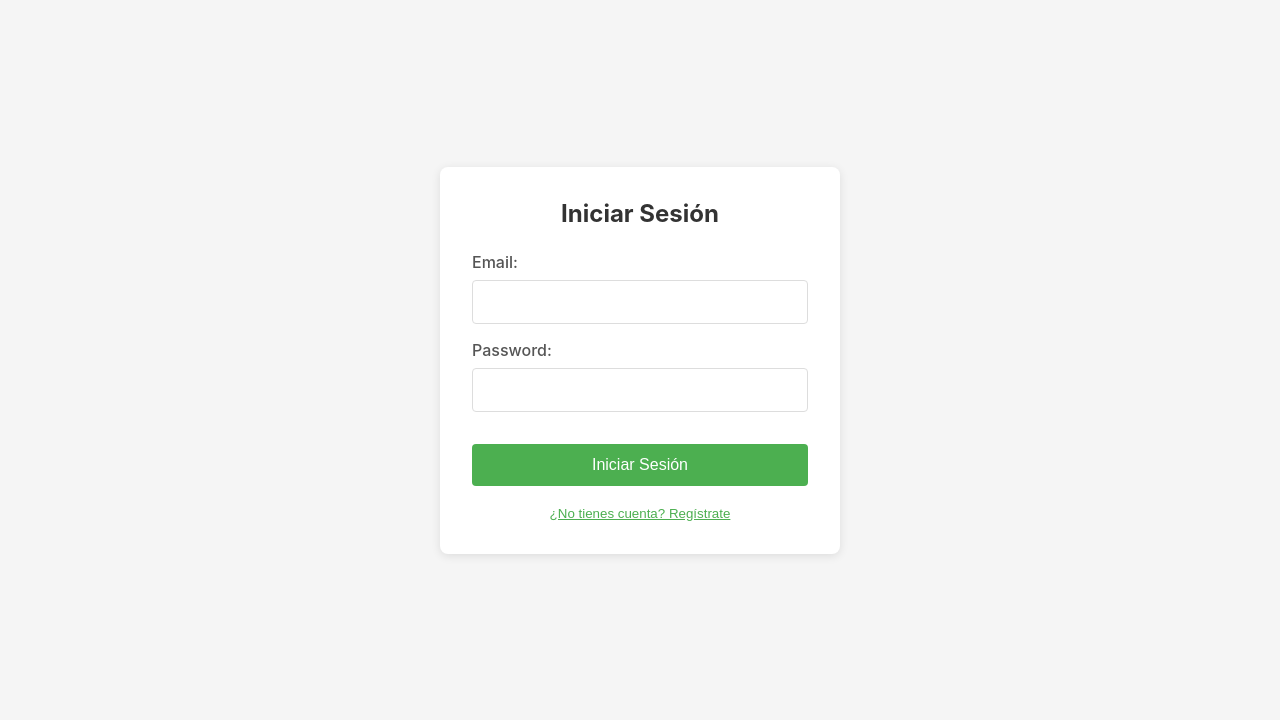
Test case: Authentication Flow › debería hacer login exitoso
In the field with id "email": (640, 302) [472, 280, 808, 324], type "test@example.com"
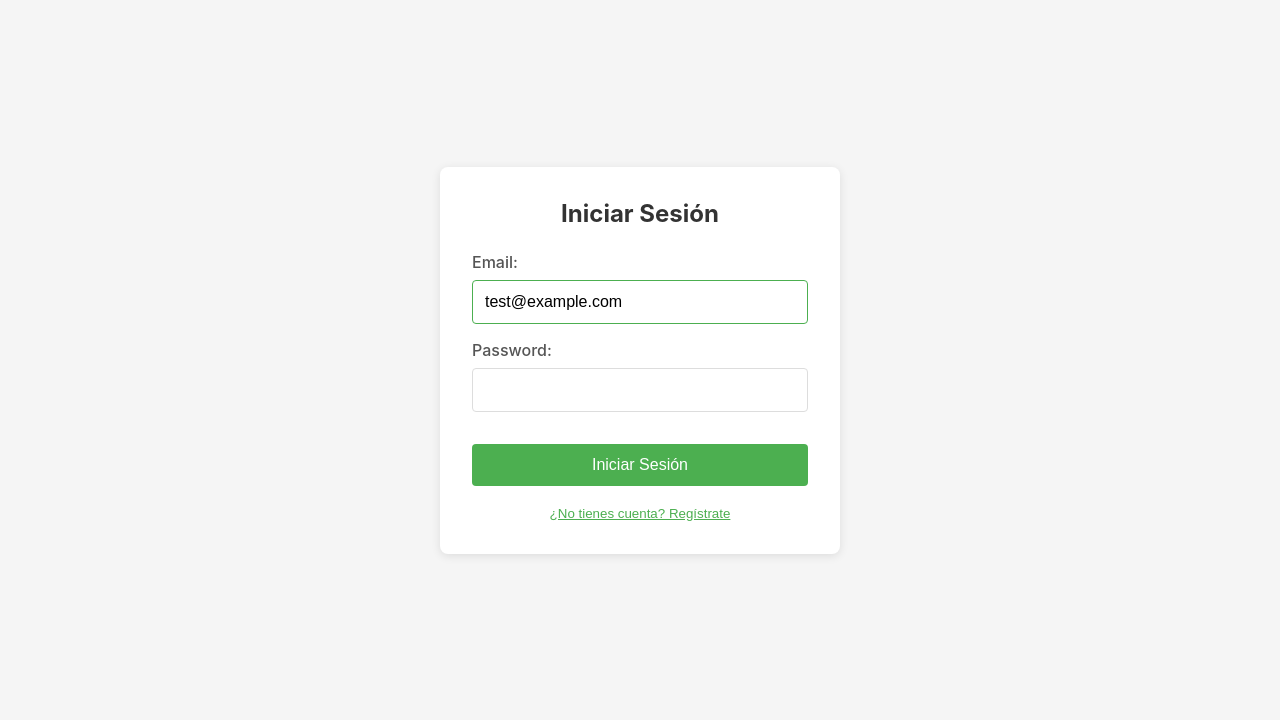
In the password field labelled "Password:": (640, 390) [472, 368, 808, 412], type "123456"
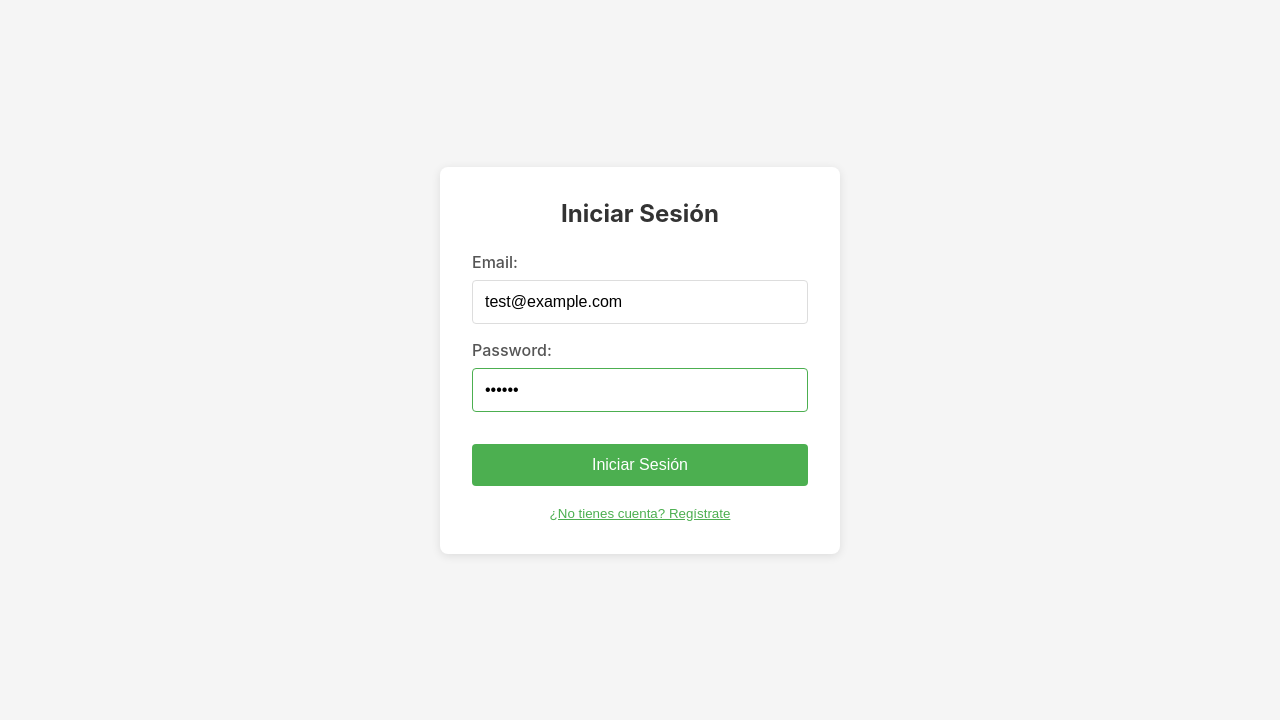
Click the submit button: (640, 465) [472, 444, 808, 486]
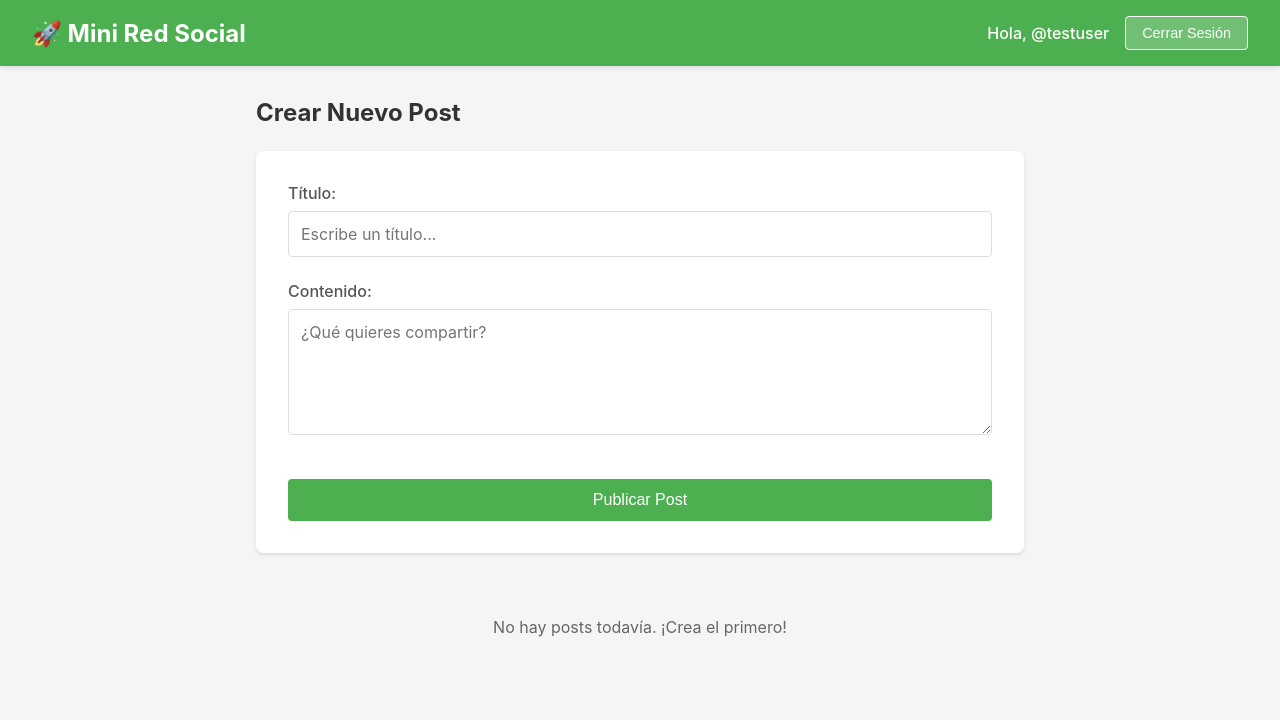
Expected: the heading "🚀 Mini Red Social" is shown, [32, 18, 246, 48]
Expected: the text "Hola, @testuser" is shown, [987, 23, 1109, 43]
